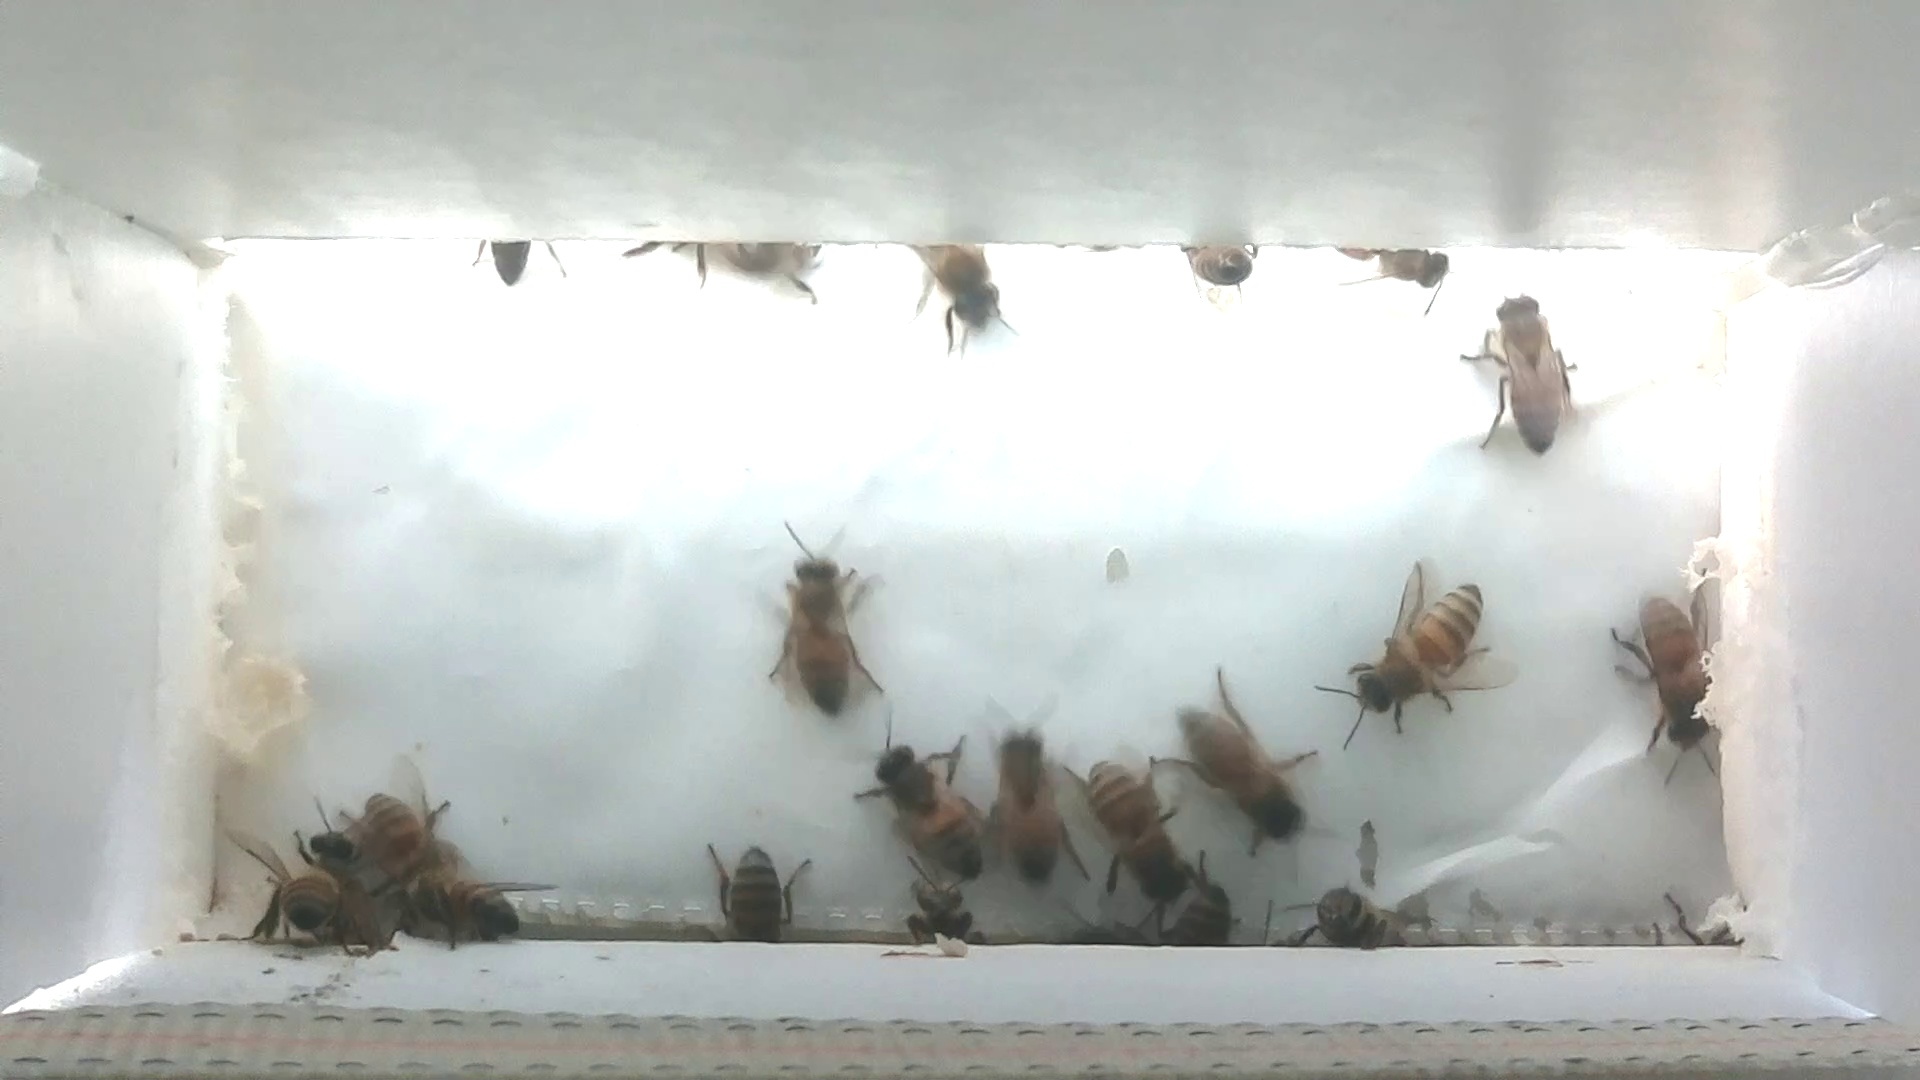bee: (1315, 549, 1530, 756), (731, 502, 905, 733), (1150, 676, 1337, 866), (833, 705, 994, 897), (1589, 572, 1742, 773), (1062, 744, 1208, 931), (1453, 286, 1596, 475), (969, 708, 1092, 906), (219, 822, 367, 959), (323, 770, 459, 913), (1280, 866, 1441, 975), (895, 229, 1021, 356), (695, 836, 816, 967), (400, 866, 559, 964), (1327, 218, 1461, 322), (884, 860, 1004, 953), (455, 222, 580, 301), (1166, 229, 1270, 311), (1149, 884, 1244, 957)
